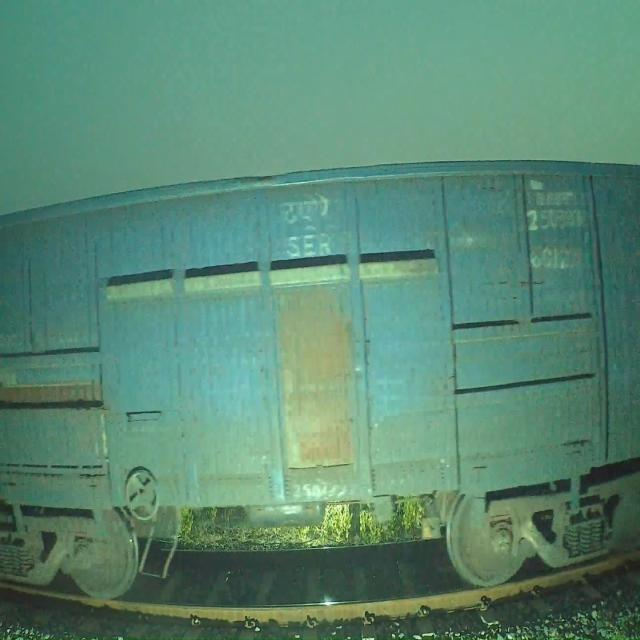WAgon-uic: (0, 159, 638, 598)
uic: (526, 200, 587, 283)
